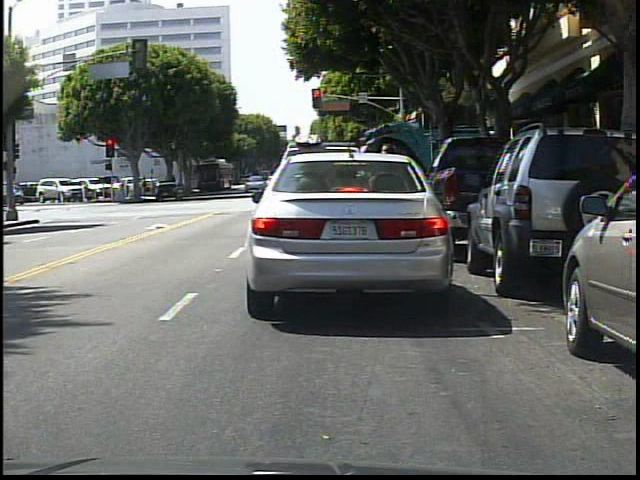person: (371, 140, 407, 256)
